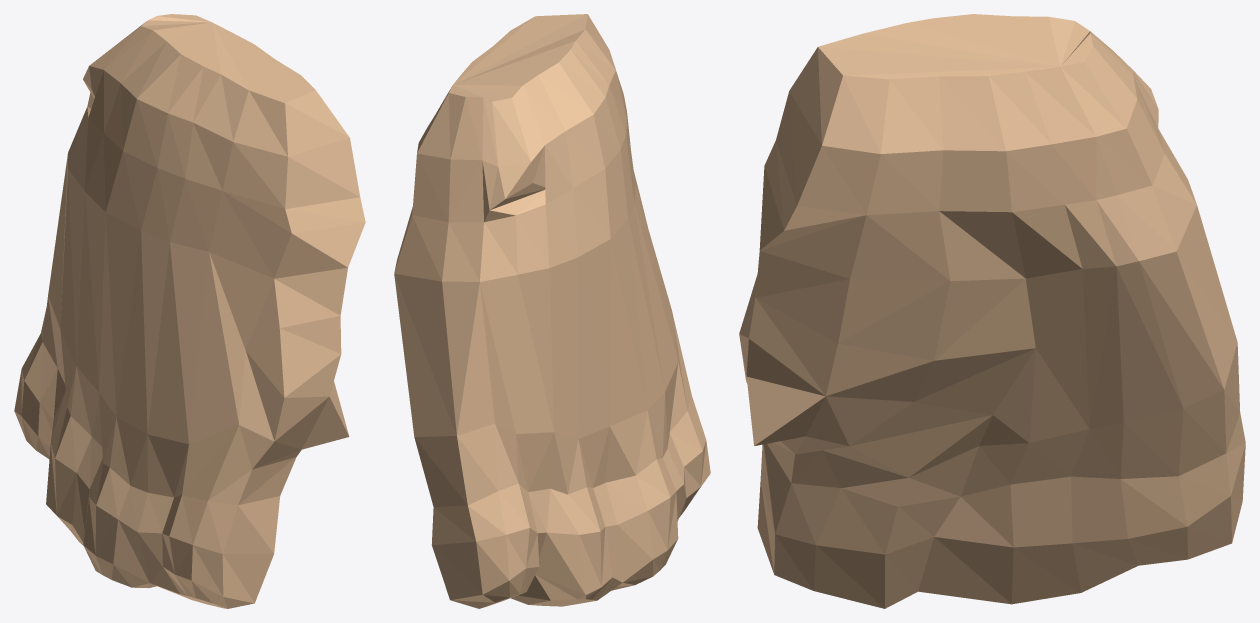
Rendered from RHand3_mesh.dae.
3 views of the same model, side by side, from view 1: azimuth 30°, elevation 25°; view 2: azimuth 150°, elevation 25°; view 3: azimuth 270°, elevation 25° (orthographic). The views are drawn at different scales.
Parts seen in each view (by area): view 1: RHand3; view 2: RHand3; view 3: RHand3.
Part boxes in pixels (box(x1,y1,x2,y2)): RHand3: box(14, 14, 365, 608); RHand3: box(394, 14, 710, 608); RHand3: box(739, 14, 1245, 608).
Size of the model in its own units: 0.0456 by 0.1057 by 0.0807.
